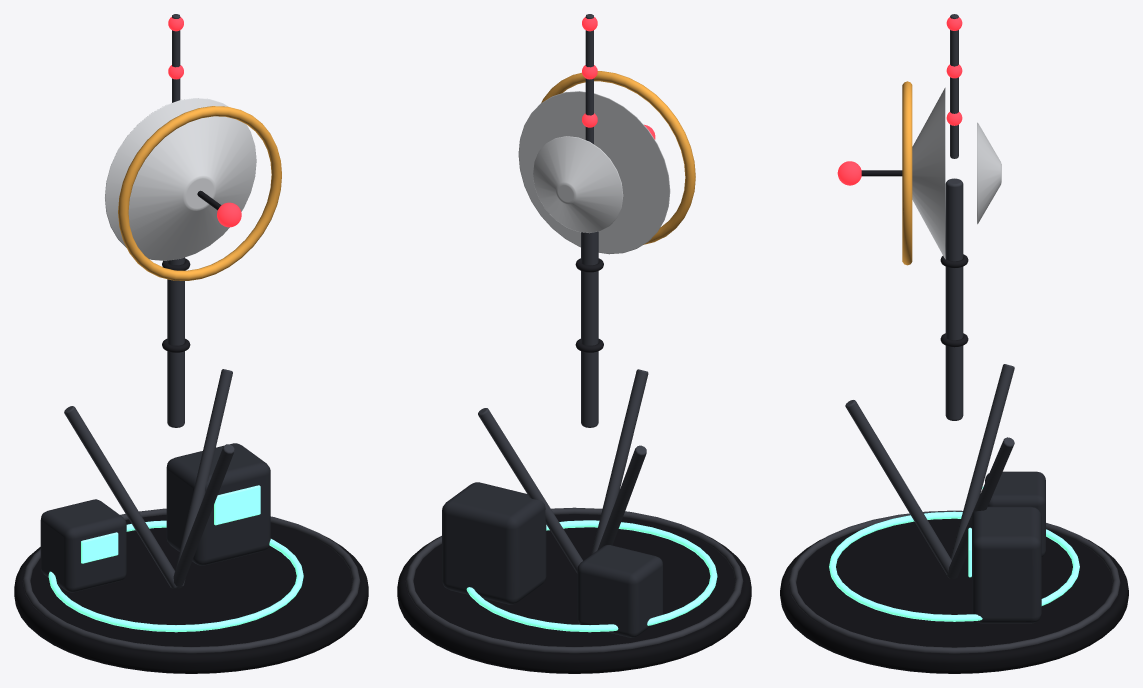
File: signal.glb
3 renders of one model, left to right at view 1: azimuth 30°, elevation 25°; view 2: azimuth 150°, elevation 25°; view 3: azimuth 270°, elevation 25°, orthographic.
Parts seen in each view (by area): view 1: fod_net, mast_net, spin_net, op1_net, op4_net, op2_net, op3_net; view 2: fod_net, mast_net, spin_net, op2.001_net, op1_net, op2_net, op4_net, op3_net; view 3: fod_net, mast_net, spin_net, op2_net, op1_net, op4_net, op2.001_net, op3_net.
Boxes of the visible parts, bbox=[...] form: fod_net: bbox=[14, 508, 368, 673]; mast_net: bbox=[64, 257, 270, 588]; spin_net: bbox=[105, 98, 256, 260]; op1_net: bbox=[40, 499, 126, 592]; op4_net: bbox=[118, 106, 281, 280]; op2_net: bbox=[48, 520, 303, 632]; op3_net: bbox=[168, 14, 183, 102]; fod_net: bbox=[397, 507, 751, 673]; mast_net: bbox=[442, 231, 648, 604]; spin_net: bbox=[518, 91, 670, 254]; op2.001_net: bbox=[533, 136, 623, 233]; op1_net: bbox=[577, 545, 662, 637]; op2_net: bbox=[466, 520, 717, 632]; op4_net: bbox=[541, 71, 695, 244]; op3_net: bbox=[582, 14, 597, 144]; fod_net: bbox=[780, 510, 1128, 673]; mast_net: bbox=[845, 178, 1041, 623]; spin_net: bbox=[837, 87, 945, 259]; op2_net: bbox=[829, 511, 1079, 621]; op1_net: bbox=[982, 471, 1045, 556]; op4_net: bbox=[902, 81, 912, 265]; op2.001_net: bbox=[977, 122, 1001, 224]; op3_net: bbox=[946, 14, 962, 158].
Bounding box in the file's own units: 2 × 3.67 × 2.
